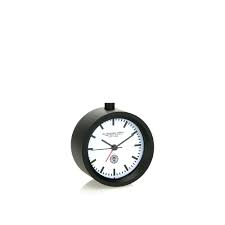alarm_clock: (71, 99, 154, 186)
